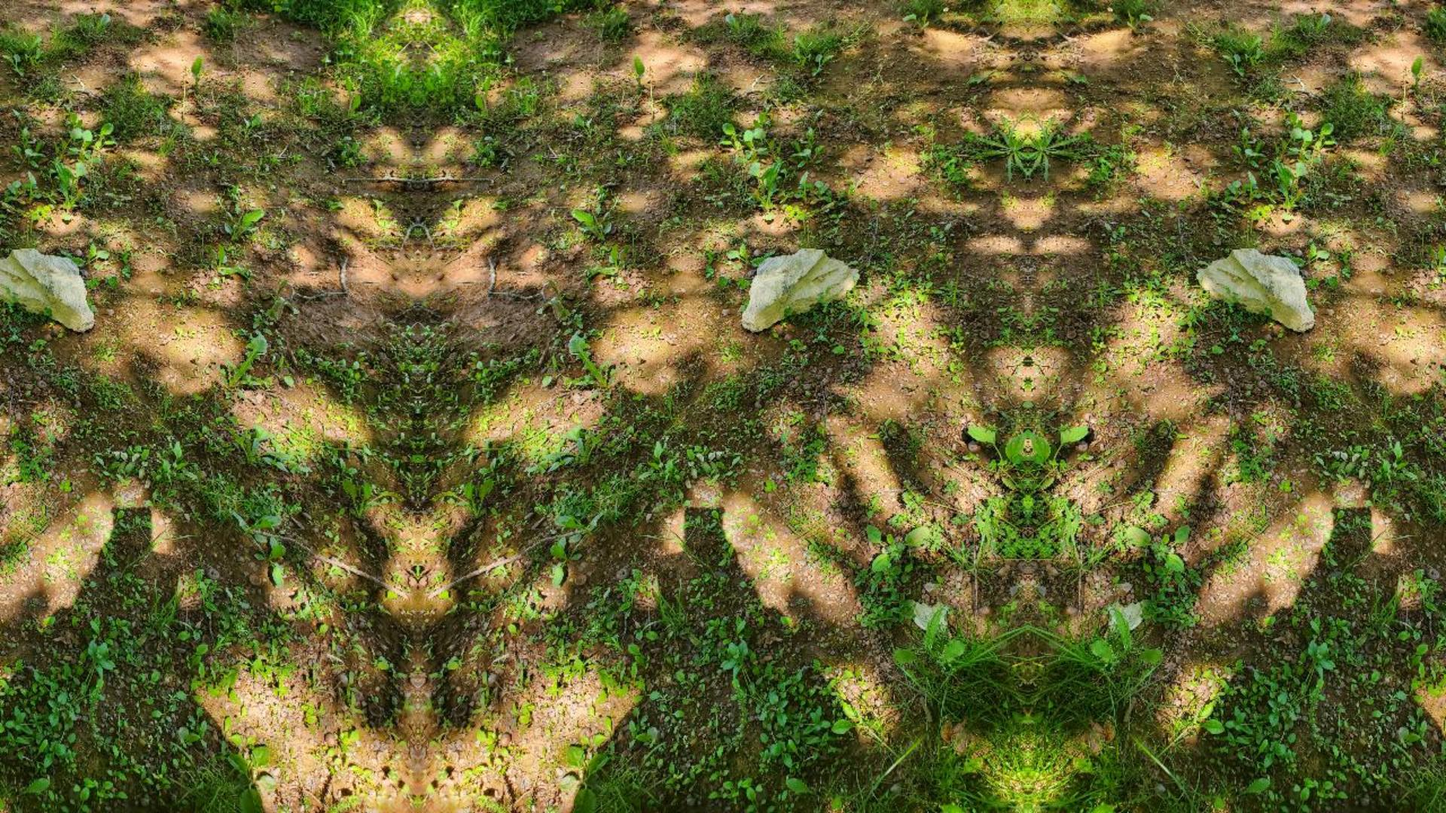rock: (1197, 250, 1314, 331), (741, 250, 857, 331), (0, 248, 94, 331)
